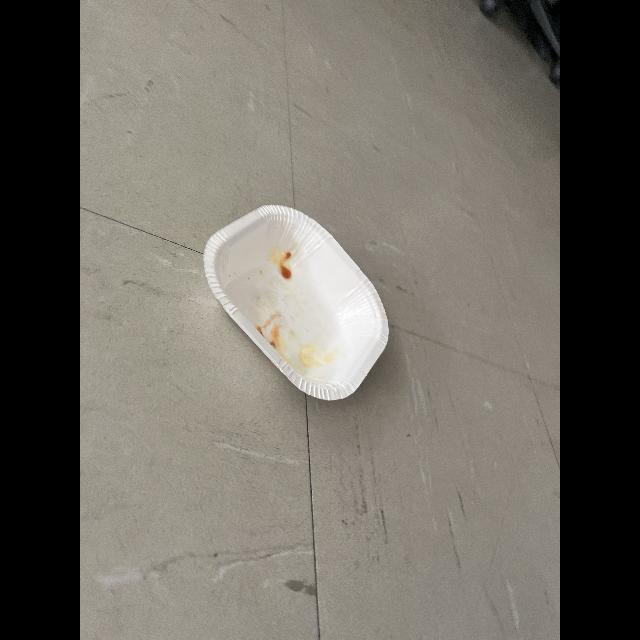cardboard_bowl: (194, 189, 400, 409)
